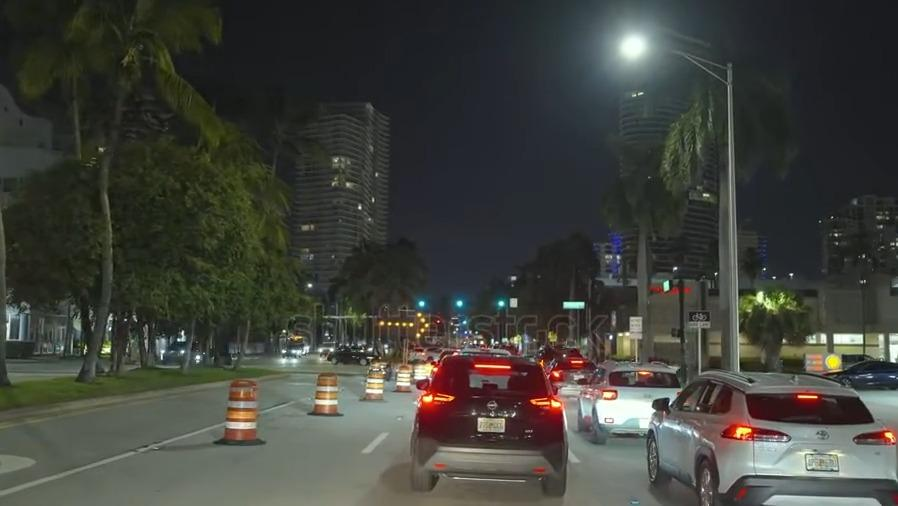arrow traffic sign: (378, 309, 433, 341)
car: (650, 368, 898, 506), (401, 353, 568, 495), (578, 360, 667, 443), (822, 356, 898, 392), (546, 355, 591, 399), (326, 343, 379, 371), (157, 339, 191, 363), (193, 347, 235, 364), (410, 340, 438, 363), (280, 343, 304, 361)
cone: (225, 376, 257, 445), (310, 371, 340, 415), (366, 367, 382, 400), (409, 359, 428, 385), (395, 362, 410, 392)
traffic light: (490, 292, 521, 315), (446, 295, 472, 312), (411, 295, 431, 311)
wheel: (689, 453, 723, 506), (639, 431, 668, 480)
